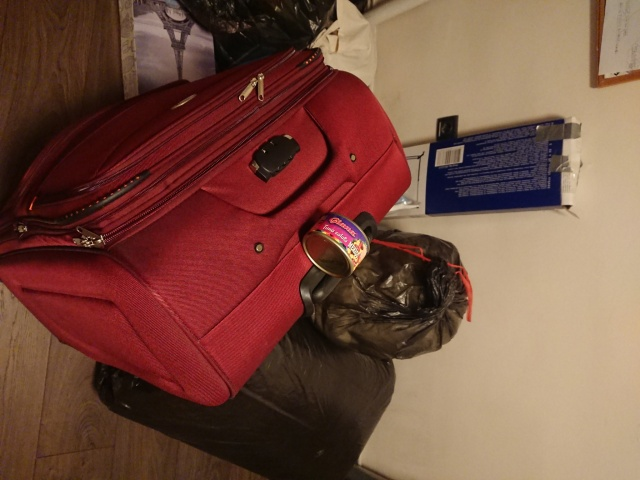Giana Tuna Salad Mexico 185g: (300, 211, 371, 280)
